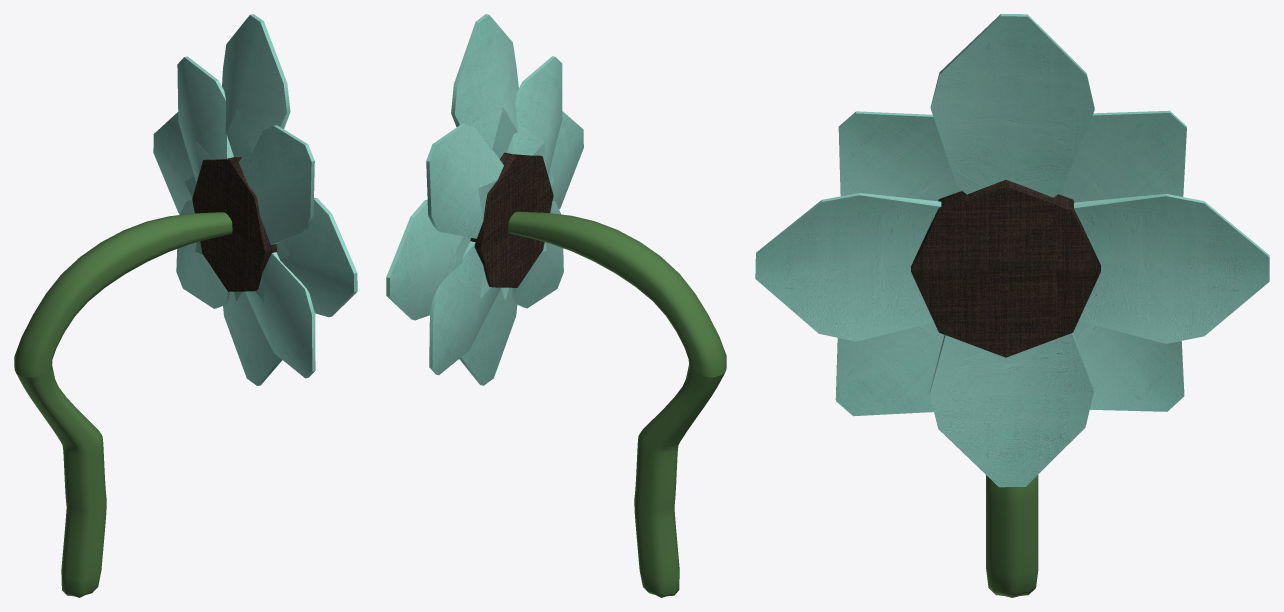
File: blue_flower.fbx
The picture shows the model from 3 angles, left to right: view 1: azimuth 30°, elevation 25°; view 2: azimuth 150°, elevation 25°; view 3: azimuth 270°, elevation 25°; orthographic projection. The views are drawn at different scales.
Parts seen in each view (by area): view 1: Leaves001, Cylinder001, Stem; view 2: Leaves001, Cylinder001, Stem; view 3: Leaves001, Cylinder001, Stem.
Part boxes in pixels (bbox=[...]): Leaves001: bbox=[153, 14, 357, 385]; Cylinder001: bbox=[14, 157, 276, 377]; Stem: bbox=[16, 365, 106, 597]; Leaves001: bbox=[386, 14, 583, 385]; Cylinder001: bbox=[470, 152, 726, 377]; Stem: bbox=[634, 365, 724, 597]; Leaves001: bbox=[755, 14, 1269, 487]; Cylinder001: bbox=[911, 180, 1100, 357]; Stem: bbox=[986, 475, 1038, 597].
Bounding box in the file's own units: 25.03 × 52.45 × 35.28.
3 materials, 3 textured.
